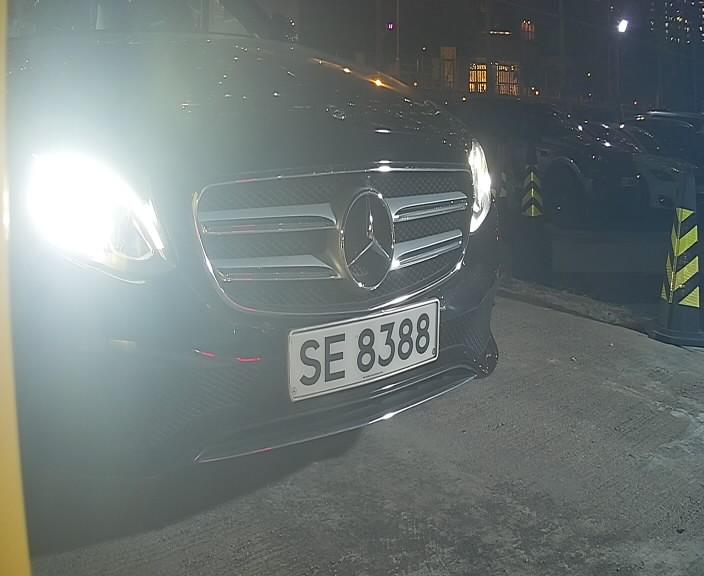License Plate: (279, 299, 450, 414)
